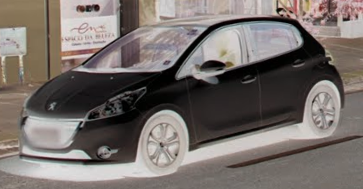car: (19, 16, 345, 175)
